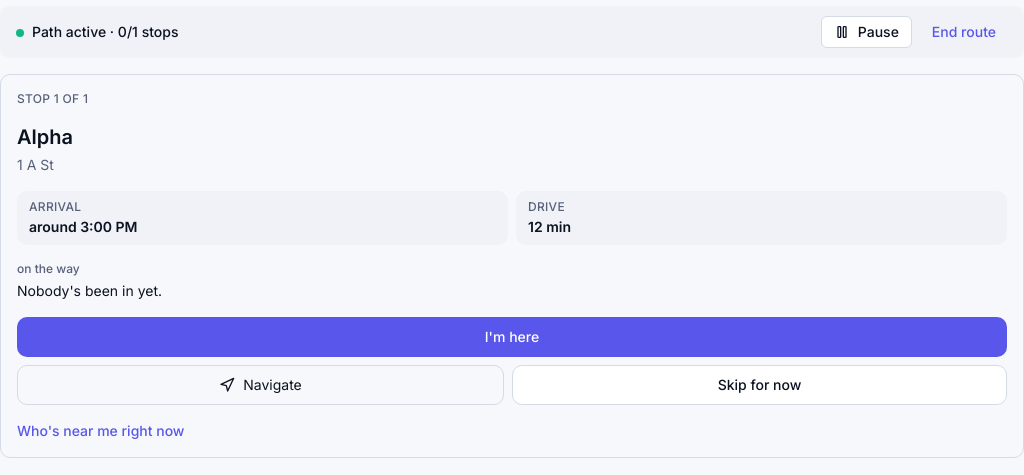
RunningPath — End route / Pause flow › Pause is reversible: it swaps to Resume in place (no confirmation), then back
Expected: the text "Path active · 0/1 stops" is shown, [16,22,178,42]
Click the button "Pause".
click(866, 32)  # box [821,16,912,48]
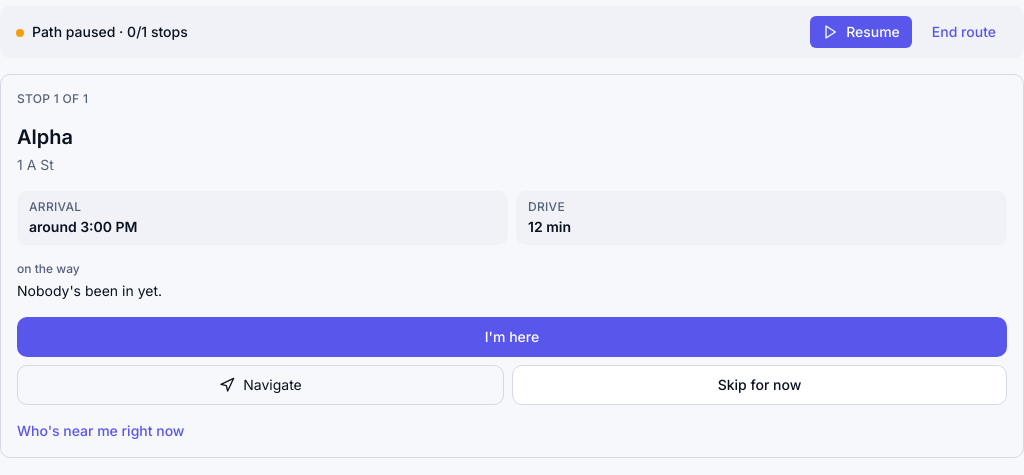
Expected: the heading "Alpha" is shown, [17,125,73,149]
Result: the text "Path paused · 0/1 stops" is shown at [16,22,188,42]
Result: the button "Resume" is shown
Resume returns to Pause.
Click the button "Resume".
click(861, 32)  # box [810,16,912,48]
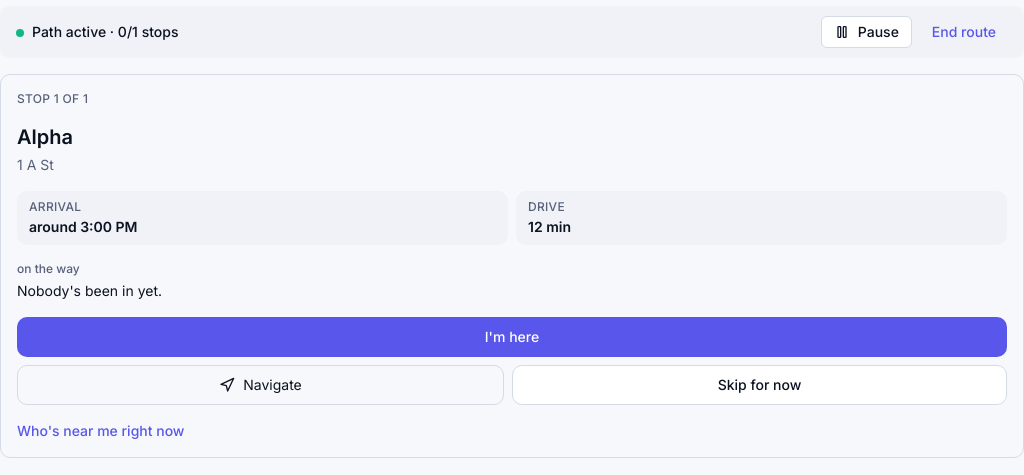
Result: the text "Path active · 0/1 stops" is shown at [16,22,178,42]
Result: the button "Pause" is shown at [821,16,912,48]
